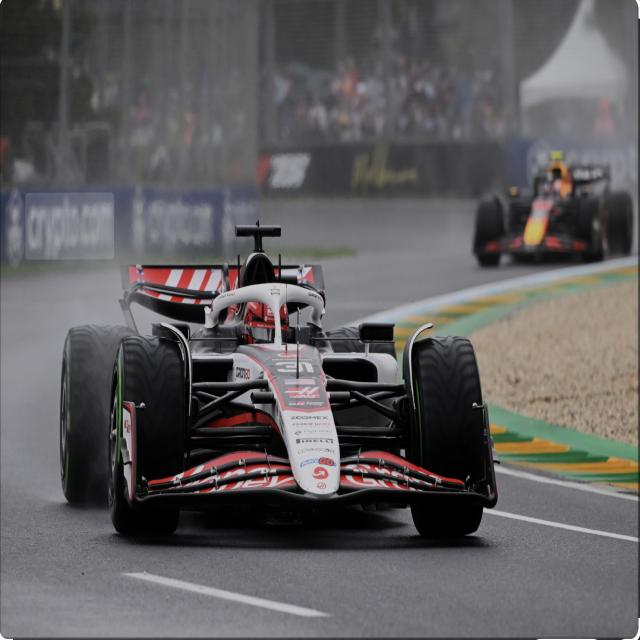Haas: (58, 219, 500, 556)
Red Bull: (476, 147, 634, 280)
